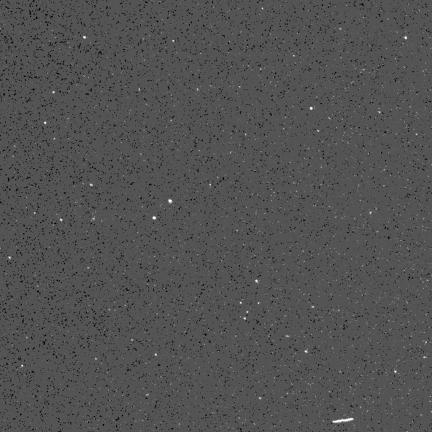blob: (310, 107, 314, 111), (83, 36, 87, 40), (168, 199, 172, 203), (405, 36, 408, 40), (172, 40, 176, 43), (90, 184, 94, 187), (44, 122, 47, 125), (153, 216, 156, 219)
